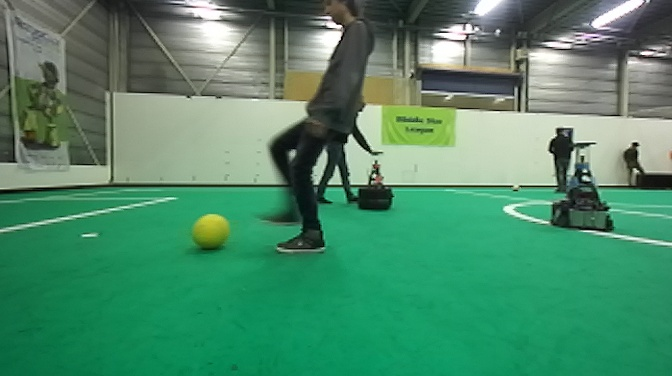ball: (190, 211, 230, 253), (509, 182, 523, 195)
human: (255, 1, 378, 258), (548, 125, 575, 193), (622, 140, 645, 188)
robot: (547, 139, 618, 234), (355, 150, 395, 213)
